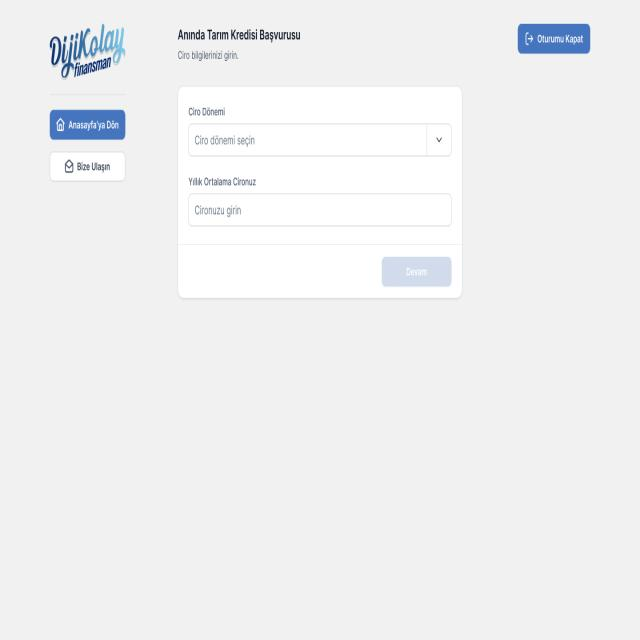QLabel: (176, 24, 302, 43), (185, 174, 258, 188), (174, 49, 240, 62), (68, 119, 119, 133), (537, 32, 585, 46), (188, 105, 226, 117), (76, 160, 111, 173), (402, 264, 429, 279)
VBtn: (49, 109, 126, 140), (381, 255, 453, 288), (516, 23, 592, 54), (50, 152, 126, 182)
VCard: (177, 84, 463, 300)
VCombobox: (189, 124, 452, 158)
VDivider: (177, 242, 463, 247)
VIcon: (64, 158, 74, 175), (524, 31, 534, 47), (56, 116, 65, 133)
VImg: (46, 15, 128, 89)
VTextField: (188, 193, 452, 226)
